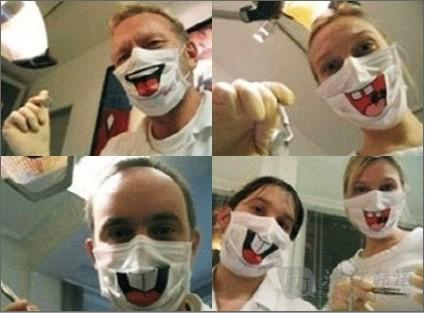OK: (309, 25, 411, 127), (94, 211, 193, 310), (220, 192, 301, 273), (111, 31, 191, 111), (345, 171, 407, 233)
